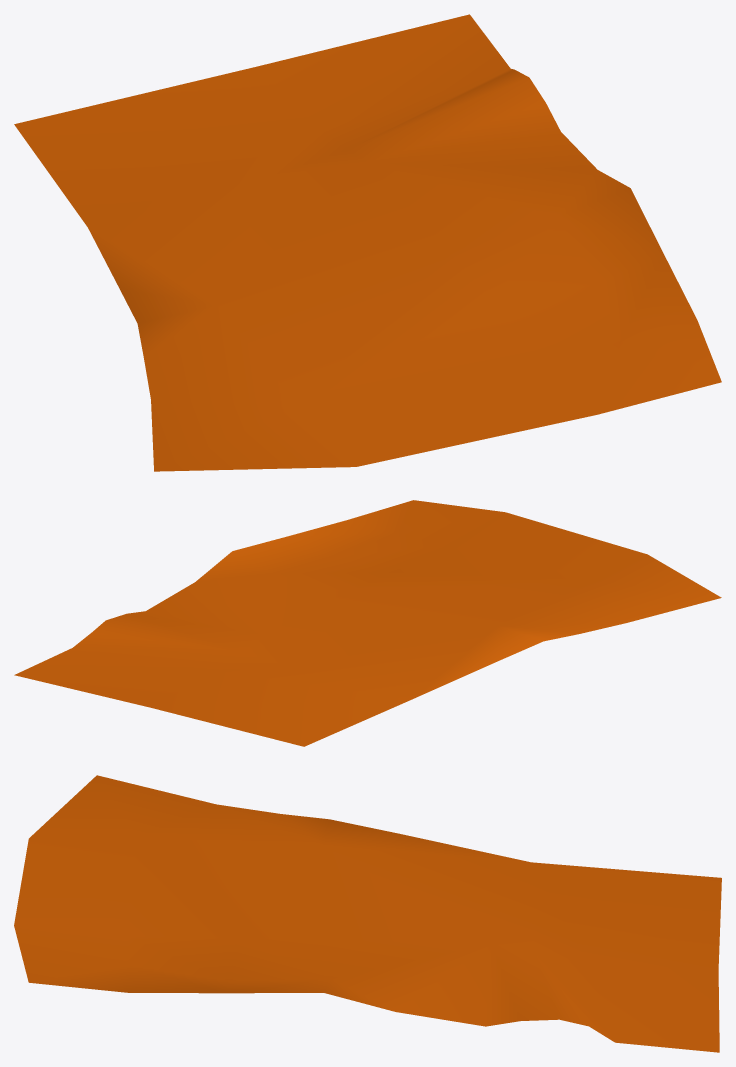
3 views of the same model, one above another, from view 1: azimuth 30°, elevation 25°; view 2: azimuth 150°, elevation 25°; view 3: azimuth 270°, elevation 25° (orthographic). The views are drawn at different scales.
Visible parts, largest first — view 1: polySurface7; view 2: polySurface7; view 3: polySurface7.
Boxes of the visible parts, x1,y1,x2,y2 form: polySurface7: (14,14,721,471); polySurface7: (14,500,721,746); polySurface7: (14,775,721,1052).
Size of the model in its own units: 3205 by 152 by 3507.
